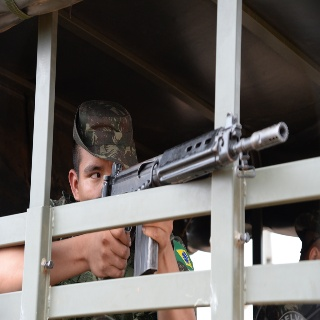rifle: (99, 113, 289, 277)
